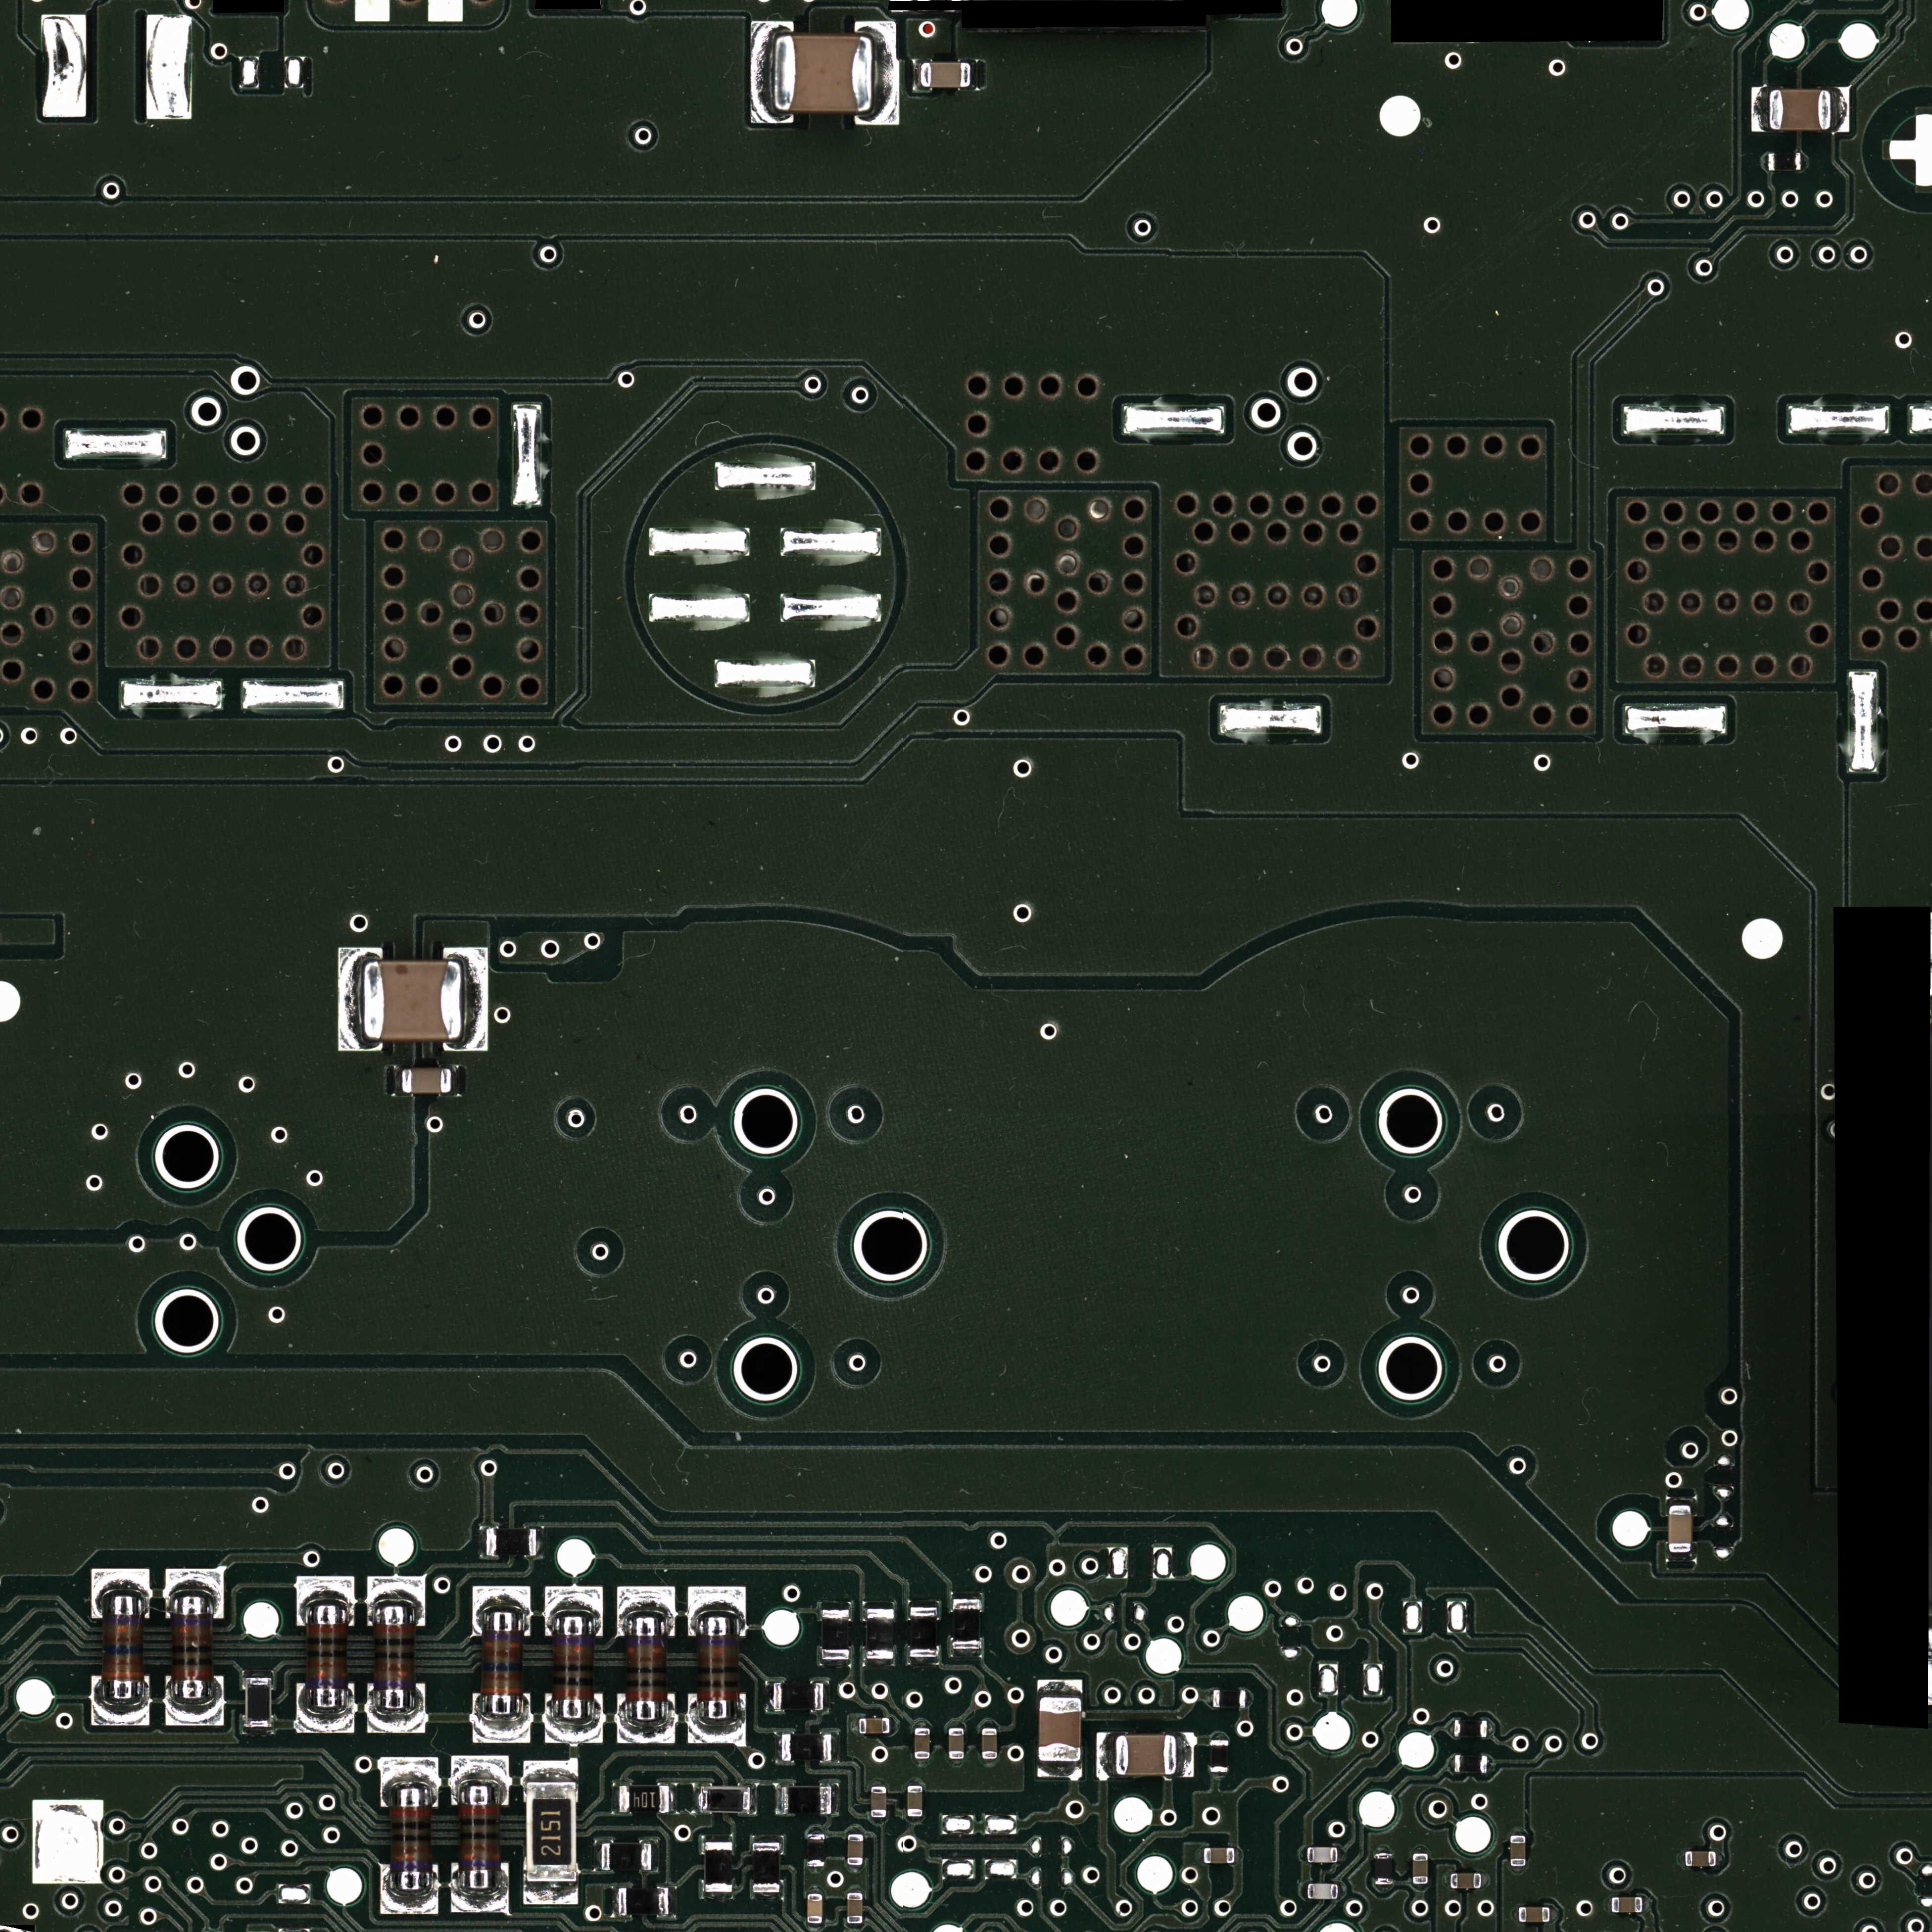Package: (363, 961, 462, 1039), (775, 36, 872, 111), (526, 1781, 576, 1882), (480, 1608, 525, 1717), (696, 1611, 741, 1722), (100, 1592, 145, 1701), (552, 1612, 595, 1721), (171, 1592, 214, 1701), (389, 1786, 433, 1892), (625, 1613, 667, 1723), (458, 1784, 500, 1891), (373, 1602, 416, 1710), (306, 1602, 348, 1709), (1039, 1698, 1081, 1761), (1769, 90, 1832, 130), (1115, 1735, 1176, 1775), (705, 1841, 733, 1892), (866, 1608, 894, 1659), (486, 1529, 536, 1556), (909, 1607, 937, 1657), (773, 1683, 822, 1711), (753, 1842, 780, 1892), (821, 1610, 849, 1659), (953, 1599, 980, 1648), (601, 1843, 651, 1871), (619, 1786, 669, 1813), (782, 1787, 832, 1814), (782, 1734, 831, 1761), (619, 1888, 668, 1915), (920, 62, 971, 88), (402, 1068, 451, 1094), (701, 1787, 750, 1812), (245, 1678, 270, 1727), (1668, 1505, 1691, 1552), (1213, 1690, 1246, 1708), (1454, 1719, 1487, 1738), (1454, 1755, 1487, 1773), (1768, 153, 1801, 171), (1374, 1853, 1393, 1884), (1210, 1740, 1228, 1772), (807, 1834, 824, 1866), (1685, 1851, 1716, 1867), (847, 1892, 863, 1924), (1612, 1897, 1642, 1913), (1450, 1873, 1481, 1888), (859, 1718, 890, 1734), (949, 1728, 964, 1759), (907, 1786, 922, 1817), (915, 1728, 930, 1759), (982, 1728, 997, 1759), (1510, 1835, 1526, 1866), (1307, 1847, 1338, 1863), (871, 1787, 886, 1817), (1519, 1907, 1549, 1922), (1412, 1853, 1428, 1884), (848, 1835, 863, 1865), (1204, 1848, 1234, 1863), (807, 1893, 822, 1924), (1308, 1884, 1338, 1899)
Solder: (873, 21, 898, 126), (463, 948, 487, 1052), (338, 949, 362, 1052), (751, 22, 774, 124), (379, 1757, 439, 1785), (617, 1586, 676, 1613), (544, 1586, 603, 1613), (451, 1756, 509, 1783), (367, 1575, 426, 1602), (295, 1576, 355, 1602), (473, 1717, 531, 1743), (687, 1586, 746, 1611), (92, 1702, 149, 1726), (165, 1702, 223, 1726), (165, 1568, 224, 1592), (295, 1710, 354, 1733), (473, 1586, 531, 1608), (92, 1568, 150, 1591), (688, 1722, 746, 1745), (367, 1711, 426, 1733), (381, 1892, 438, 1915), (545, 1721, 603, 1743), (523, 1883, 579, 1905), (451, 1892, 509, 1913), (617, 1723, 675, 1743), (523, 1761, 579, 1781), (1096, 1732, 1114, 1780), (1832, 87, 1849, 133), (1037, 1762, 1082, 1780), (1751, 87, 1768, 132), (1037, 1680, 1082, 1697), (1177, 1733, 1194, 1777), (1665, 1553, 1696, 1562), (691, 1783, 701, 1813), (452, 1065, 461, 1097), (392, 1065, 401, 1096), (1666, 1496, 1696, 1504), (765, 1681, 773, 1712), (670, 1783, 678, 1813), (832, 1783, 840, 1814), (669, 1887, 677, 1917), (863, 1659, 894, 1667), (908, 1657, 939, 1665), (912, 60, 920, 91), (832, 1732, 840, 1762), (774, 1732, 782, 1762), (821, 1601, 851, 1609), (242, 1669, 273, 1677), (752, 1835, 784, 1842), (702, 1834, 733, 1841), (864, 1600, 895, 1608), (951, 1649, 982, 1657), (750, 1784, 758, 1814), (611, 1783, 619, 1814), (652, 1840, 659, 1871), (593, 1840, 601, 1871), (952, 1591, 982, 1598), (242, 1728, 274, 1735), (611, 1886, 618, 1916), (702, 1893, 733, 1900), (820, 1660, 851, 1667), (751, 1893, 782, 1900), (823, 1681, 830, 1712), (479, 1526, 485, 1557), (537, 1526, 544, 1557), (908, 1599, 939, 1606), (774, 1785, 781, 1814), (972, 60, 979, 90), (1549, 1905, 1558, 1923), (1374, 1885, 1393, 1892), (1642, 1895, 1650, 1914), (1488, 1755, 1495, 1774), (1374, 1846, 1392, 1853), (1300, 1883, 1307, 1900), (1487, 1719, 1494, 1738), (1210, 1733, 1229, 1739), (1196, 1847, 1204, 1863), (1235, 1847, 1242, 1864), (890, 1717, 897, 1735), (947, 1721, 965, 1728), (1678, 1850, 1685, 1868), (981, 1759, 998, 1767), (1510, 1828, 1526, 1835), (1300, 1846, 1307, 1863), (852, 1717, 859, 1734), (1761, 153, 1768, 171), (1717, 1851, 1724, 1868), (807, 1827, 825, 1834), (846, 1924, 864, 1931), (1510, 1867, 1526, 1874), (807, 1886, 823, 1893), (1604, 1896, 1611, 1913), (981, 1721, 998, 1728), (807, 1866, 824, 1873), (1448, 1755, 1454, 1773), (1481, 1873, 1489, 1888), (1443, 1873, 1450, 1888), (1338, 1883, 1345, 1899), (948, 1759, 965, 1766), (1338, 1846, 1345, 1863), (914, 1721, 930, 1728), (1210, 1772, 1228, 1779), (1801, 153, 1808, 171), (1412, 1884, 1428, 1891), (1511, 1906, 1518, 1922), (915, 1759, 930, 1766), (1207, 1690, 1212, 1707), (847, 1886, 863, 1892), (870, 1780, 887, 1786), (906, 1817, 923, 1823), (1413, 1846, 1428, 1853), (907, 1779, 923, 1786), (847, 1828, 863, 1834), (847, 1865, 864, 1871), (1448, 1720, 1454, 1736), (1246, 1690, 1252, 1707), (870, 1818, 887, 1823), (806, 1924, 824, 1929)
